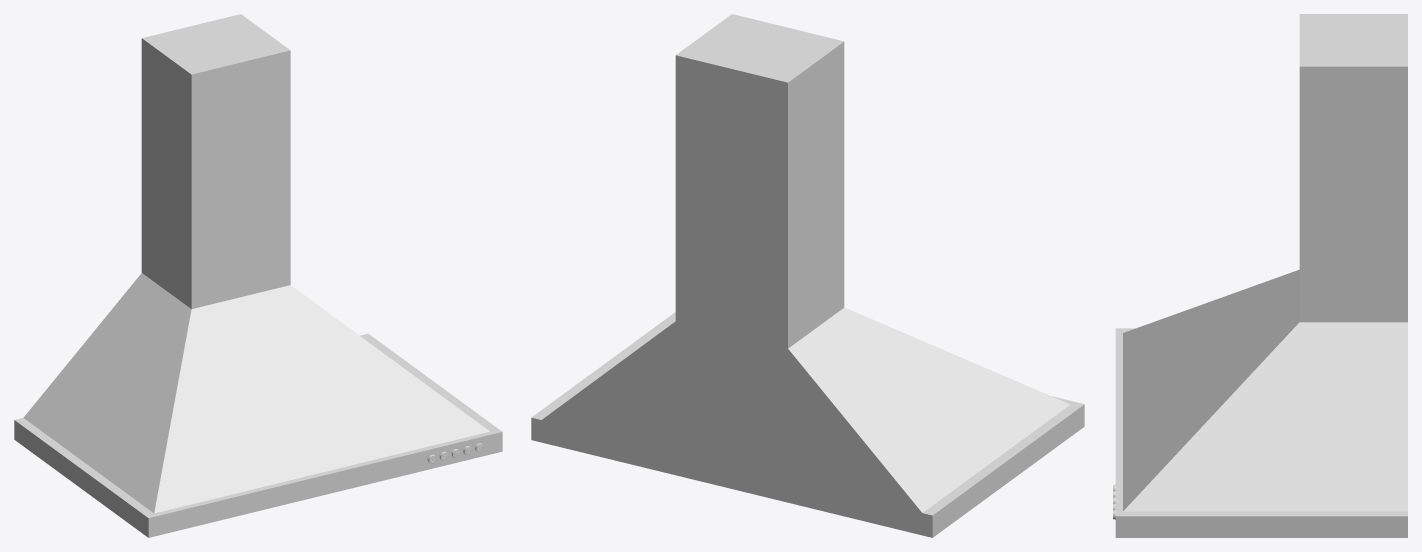
Rendered from kt_hood.fbx.
3 views of the same model, side by side, from view 1: azimuth 30°, elevation 25°; view 2: azimuth 150°, elevation 25°; view 3: azimuth 270°, elevation 25° (orthographic). The views are drawn at different scales.
Visible parts, largest first — view 1: kt_hood_LOD0; view 2: kt_hood_LOD0; view 3: kt_hood_LOD0.
Part boxes in pixels (box(x1,y1,x2,y2)): kt_hood_LOD0: box(14, 14, 502, 537); kt_hood_LOD0: box(531, 14, 1084, 537); kt_hood_LOD0: box(1113, 14, 1407, 537).
Size of what is drawn, in the model's own units: 0.762 by 0.762 by 0.5045.
1 material, 1 textured.
